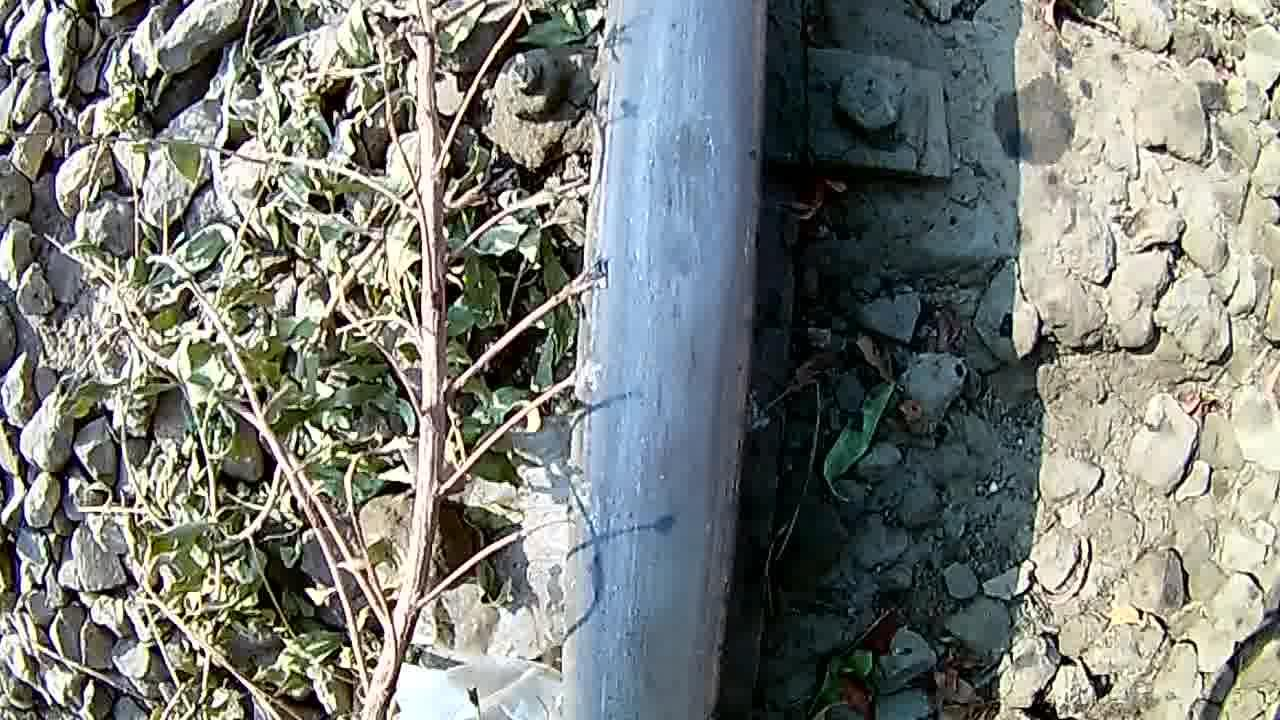bolt_missing: (636, 11, 761, 316), (596, 559, 746, 720)
